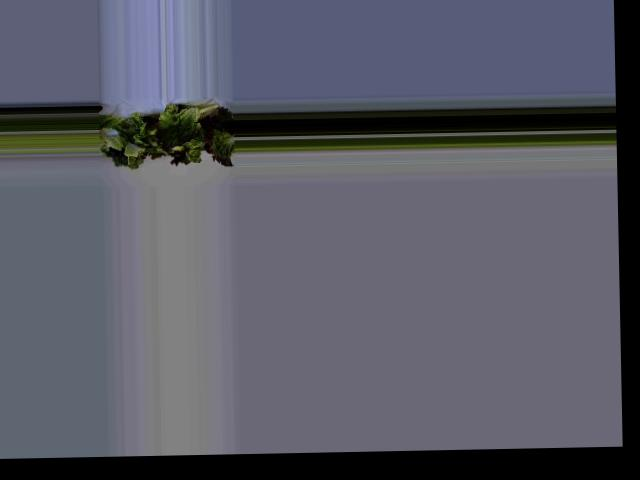lettuce: (106, 111, 230, 163)
